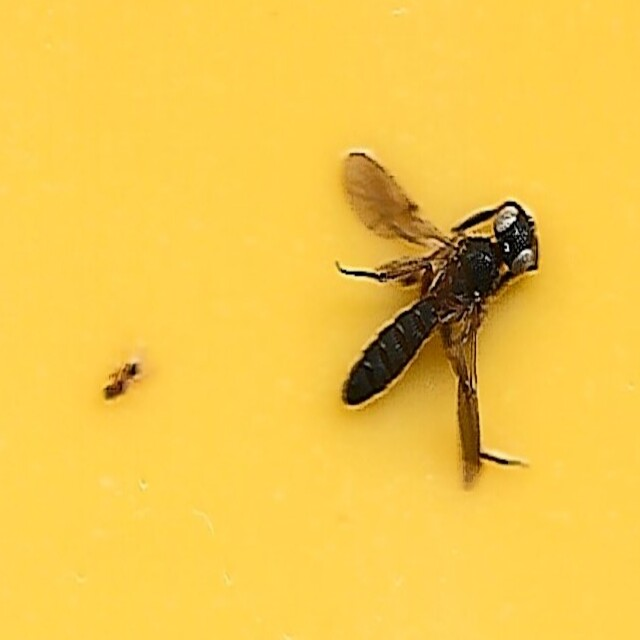Hymenoptera: (331, 152, 540, 488), (100, 344, 155, 405)
